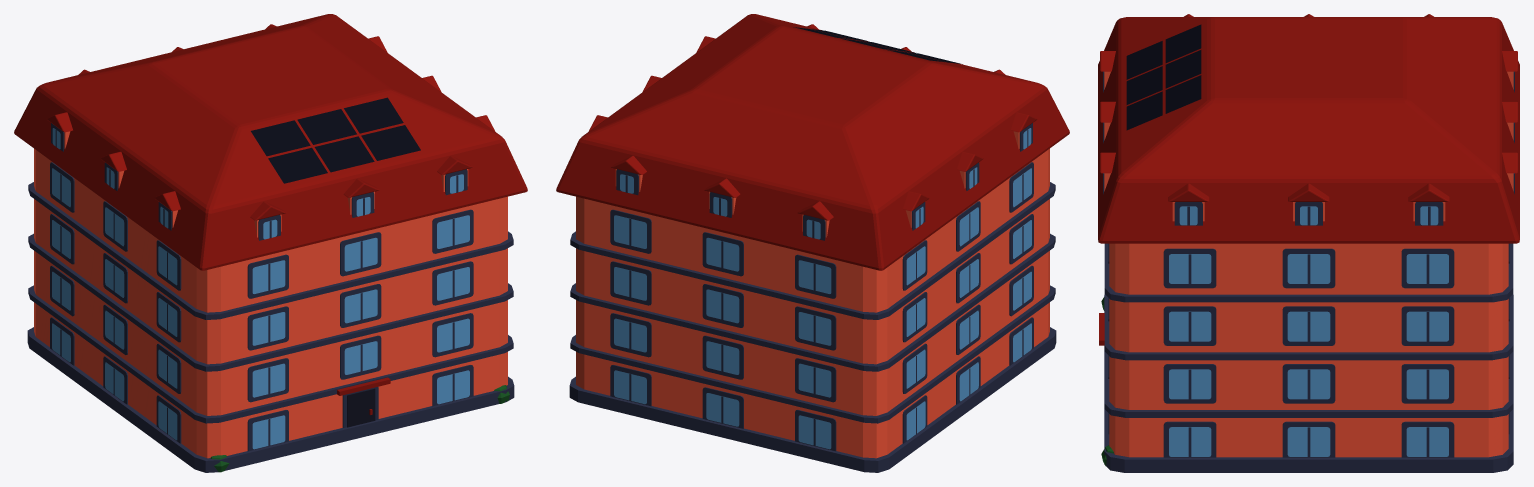
The model's file is house-2x2-4f-mansard-c-solar.glb.
3 renders of one model, left to right at view 1: azimuth 30°, elevation 25°; view 2: azimuth 150°, elevation 25°; view 3: azimuth 270°, elevation 25°, orthographic. The views are drawn at different scales.
Visible parts, largest first — view 1: house-2x2-4f-mansard-c-solar; view 2: house-2x2-4f-mansard-c-solar; view 3: house-2x2-4f-mansard-c-solar.
Boxes of the visible parts, bbox=[...] form: house-2x2-4f-mansard-c-solar: bbox=[14, 14, 527, 472]; house-2x2-4f-mansard-c-solar: bbox=[556, 14, 1069, 472]; house-2x2-4f-mansard-c-solar: bbox=[1098, 14, 1519, 472].
Size of the model in its own units: 1.99 by 1.71 by 1.99.
Materials: 1 (1 with a texture image).
